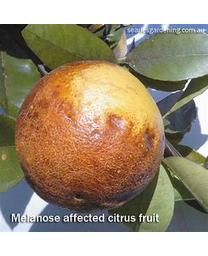lemon: (14, 61, 165, 211)
